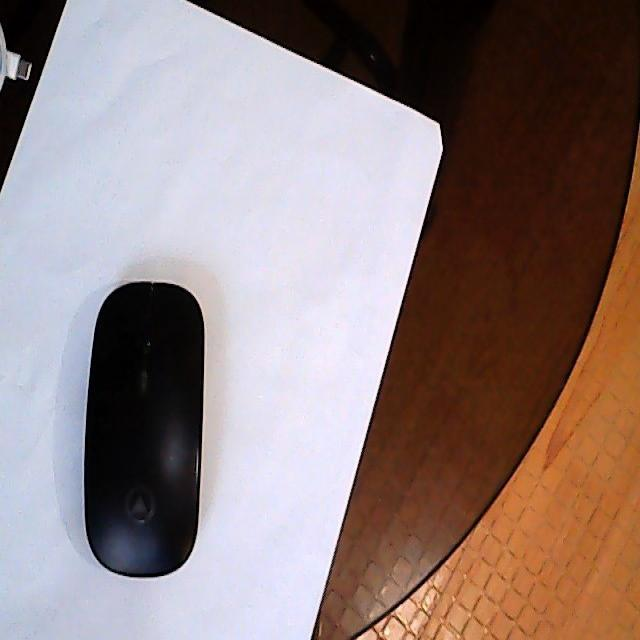-keyboard-: (81, 277, 206, 584)
